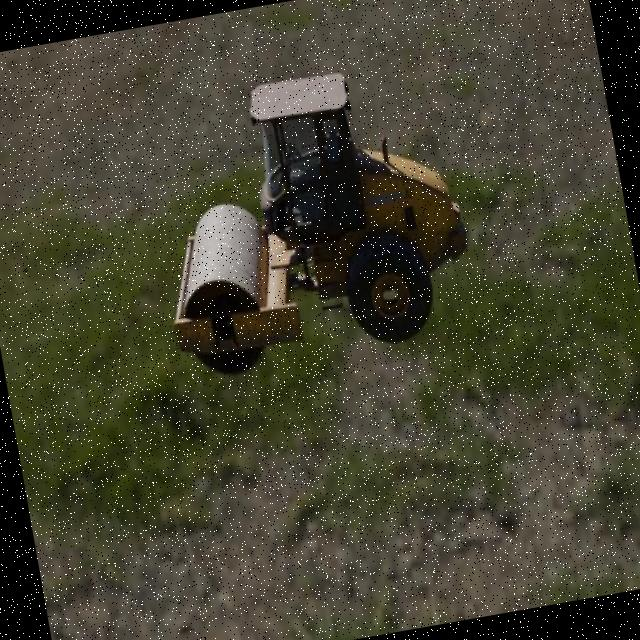Roller: (134, 54, 483, 384)
